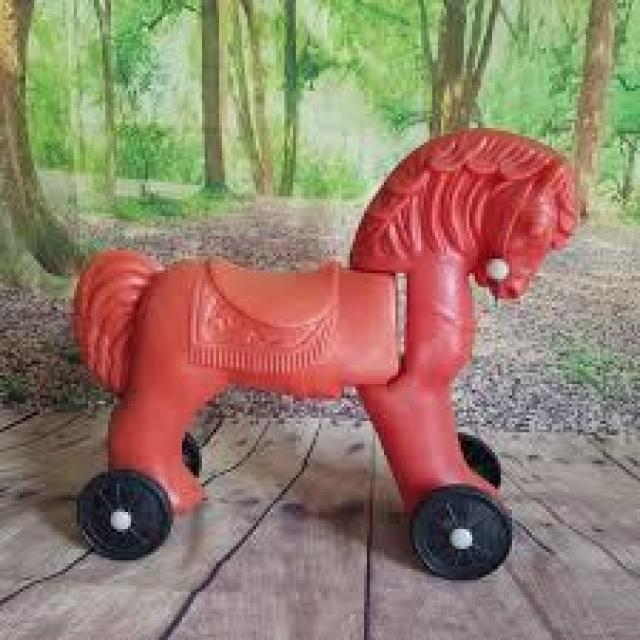hard-toy: (75, 129, 576, 579)
